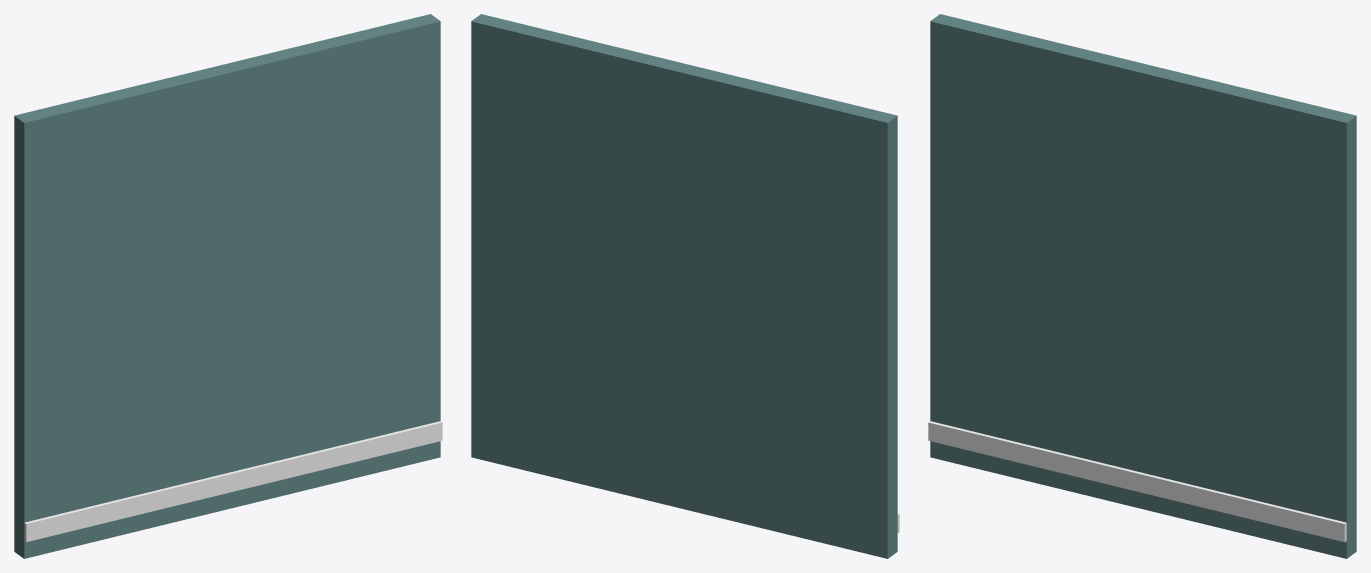
The model's file is wall00_test.obj.
3 views of the same model, side by side, from view 1: azimuth 30°, elevation 25°; view 2: azimuth 150°, elevation 25°; view 3: azimuth 330°, elevation 25° (orthographic).
Size of the model in its own units: 12 by 12 by 0.6.
1 material, 1 textured.
